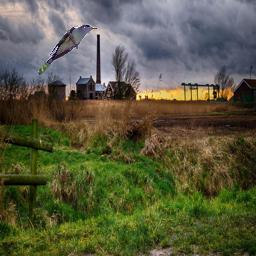Cuckoo: (38, 24, 97, 75)
